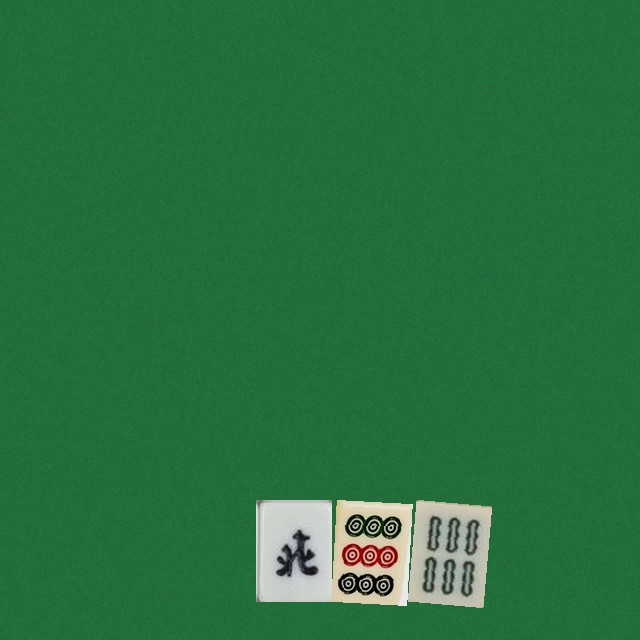tile: (255, 499, 331, 601), (331, 499, 407, 601), (407, 499, 483, 601)
